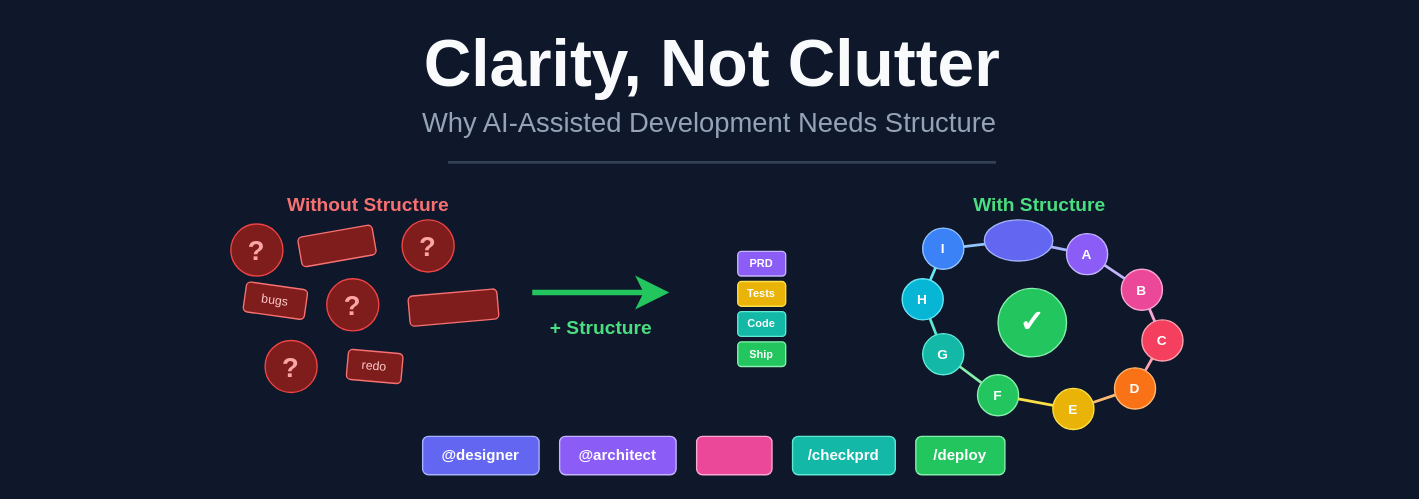
This 1419x499 diagram has some shape labels left out. The centre of each missing label's shape, as x and y in pixels:
@qa: [733,455]
lost context: [452,307]
Prelim: [1018,240]
rework: [336,245]
